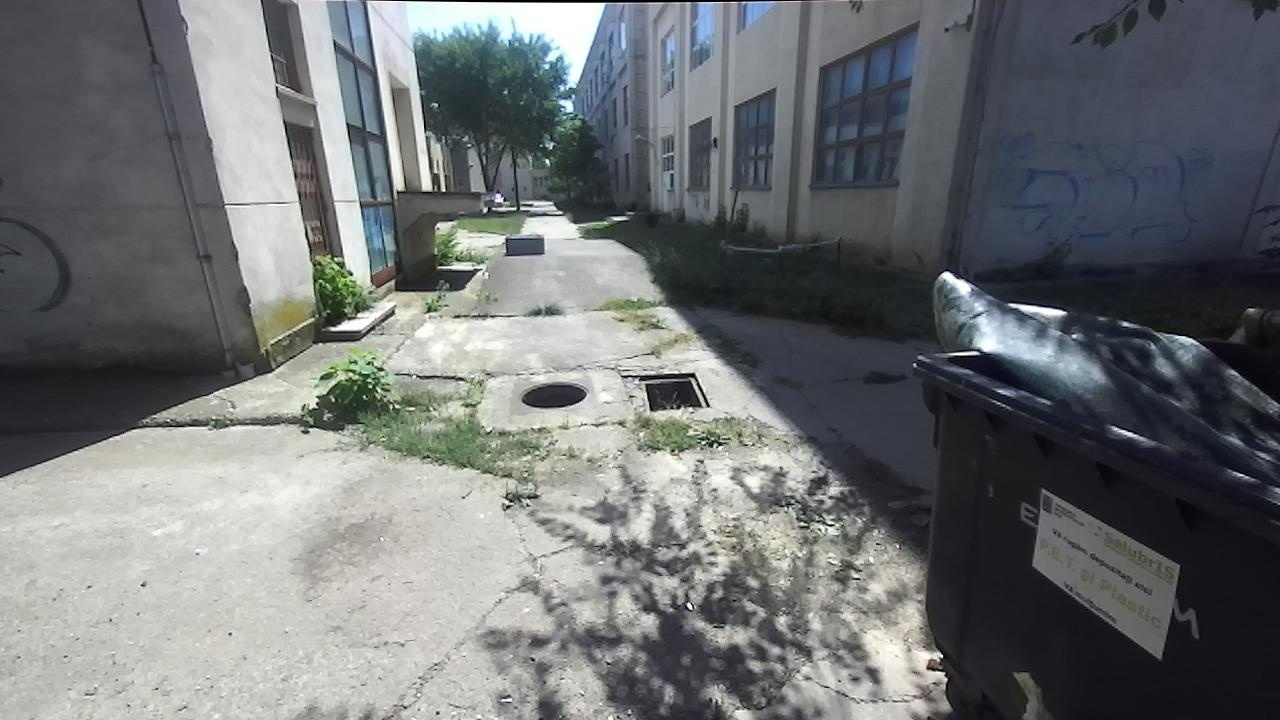drain: (638, 369, 714, 410), (513, 374, 592, 410)
